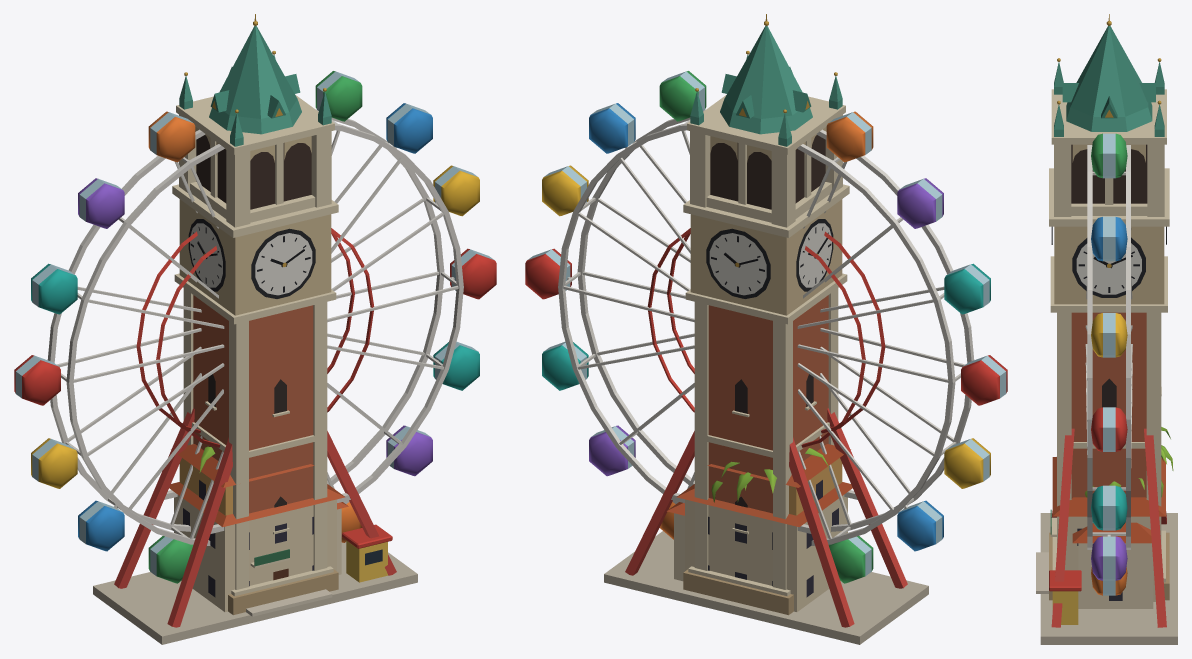
File: props.glb
3 views of the same model, side by side, from view 1: azimuth 30°, elevation 25°; view 2: azimuth 150°, elevation 25°; view 3: azimuth 270°, elevation 25° (orthographic).
Visible parts, largest first — view 1: clock_tower, ferris_wheel_rotor, ferris_wheel, hill_house_a, hill_house_b; view 2: clock_tower, ferris_wheel_rotor, ferris_wheel, hill_house_a, hill_house_b; view 3: clock_tower, ferris_wheel_rotor, ferris_wheel, hill_house_b, hill_house_a.
Part boxes in pixels (x1,y1,x2,y2): clock_tower: (172,14,338,614); ferris_wheel_rotor: (14,71,496,583); ferris_wheel: (93,408,417,644); hill_house_a: (169,482,345,611); hill_house_b: (171,444,348,574); clock_tower: (683,14,849,615); ferris_wheel_rotor: (525,71,1007,583); ferris_wheel: (604,408,928,644); hill_house_a: (676,482,852,611); hill_house_b: (667,444,850,581); clock_tower: (1049,14,1169,600); ferris_wheel_rotor: (1085,133,1132,595); ferris_wheel: (1036,428,1177,644); hill_house_b: (1050,509,1153,608); hill_house_a: (1052,457,1165,601).
Size of the model in its own units: 29.58 by 34.3 by 7.75.
